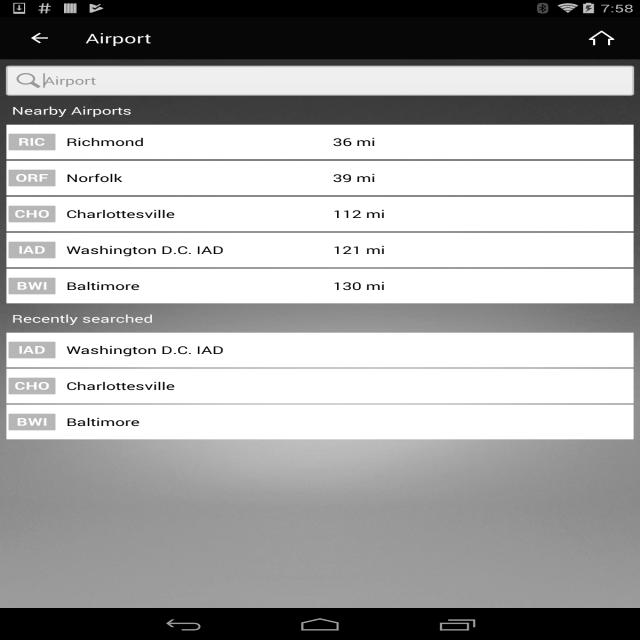EditText: (4, 65, 636, 96)
ImageButton: (9, 17, 68, 59)
TextView: (9, 334, 632, 366), (9, 370, 632, 402), (9, 406, 632, 438), (11, 96, 634, 125), (11, 304, 634, 332), (9, 126, 320, 158), (320, 126, 631, 158), (9, 162, 320, 194), (320, 162, 631, 194), (9, 198, 320, 230), (320, 198, 631, 230), (9, 234, 320, 266), (320, 234, 631, 266), (9, 270, 320, 302), (320, 270, 631, 302), (572, 22, 631, 54), (86, 29, 152, 47)
